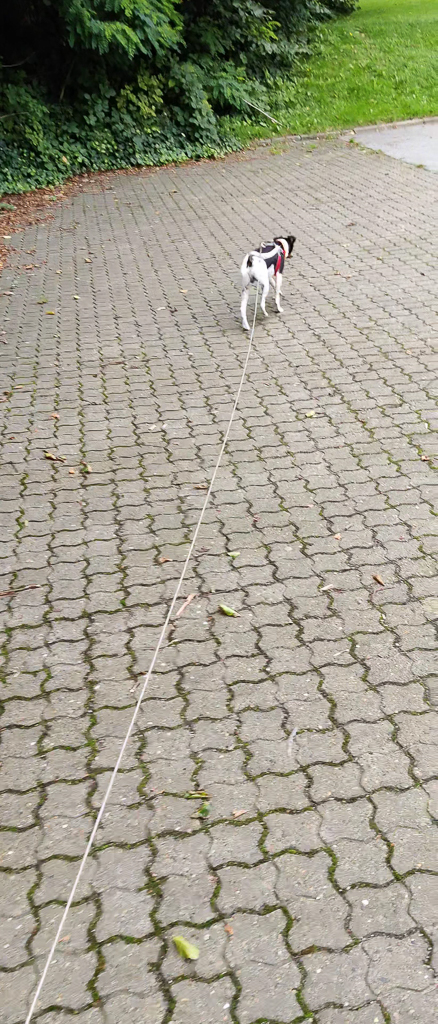Dog: (232, 229, 303, 338)
